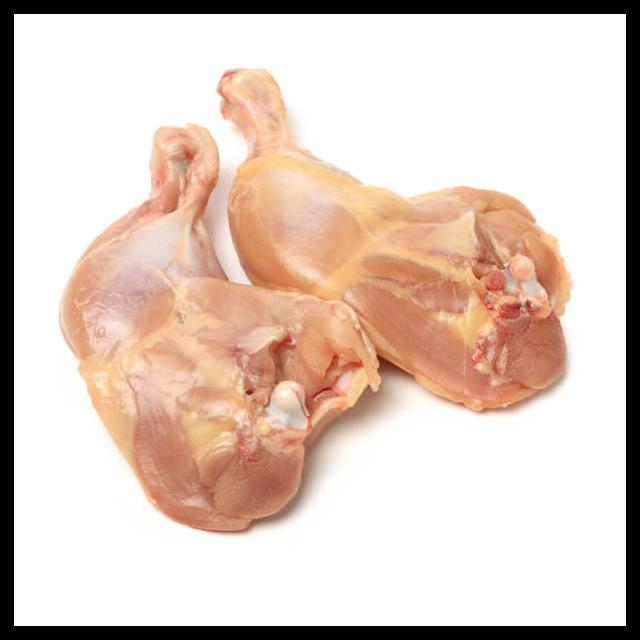chicken: (57, 120, 384, 535), (215, 60, 573, 413)
